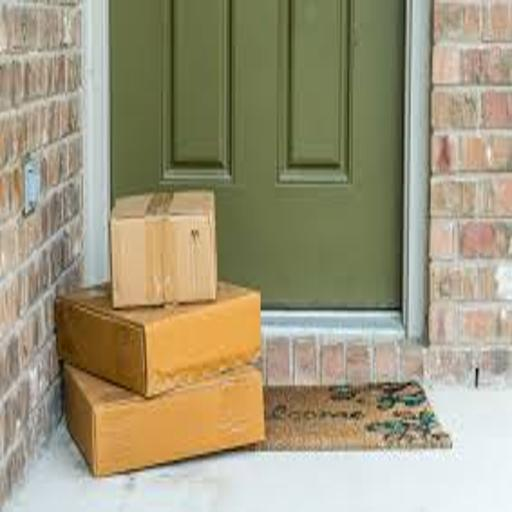Other: (57, 271, 267, 399), (62, 358, 267, 475), (108, 188, 226, 304)
